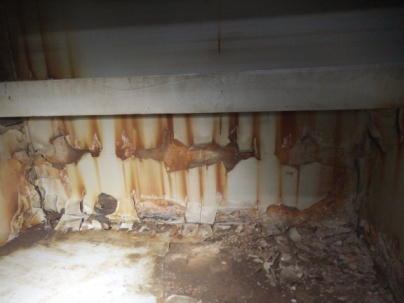corrosion: (158, 213, 404, 303), (144, 119, 237, 207), (0, 11, 85, 81), (328, 124, 396, 210), (0, 131, 41, 256), (31, 121, 85, 209), (276, 120, 317, 210), (107, 120, 146, 206), (32, 211, 135, 238), (82, 106, 107, 189), (245, 120, 261, 208), (76, 185, 116, 215)
